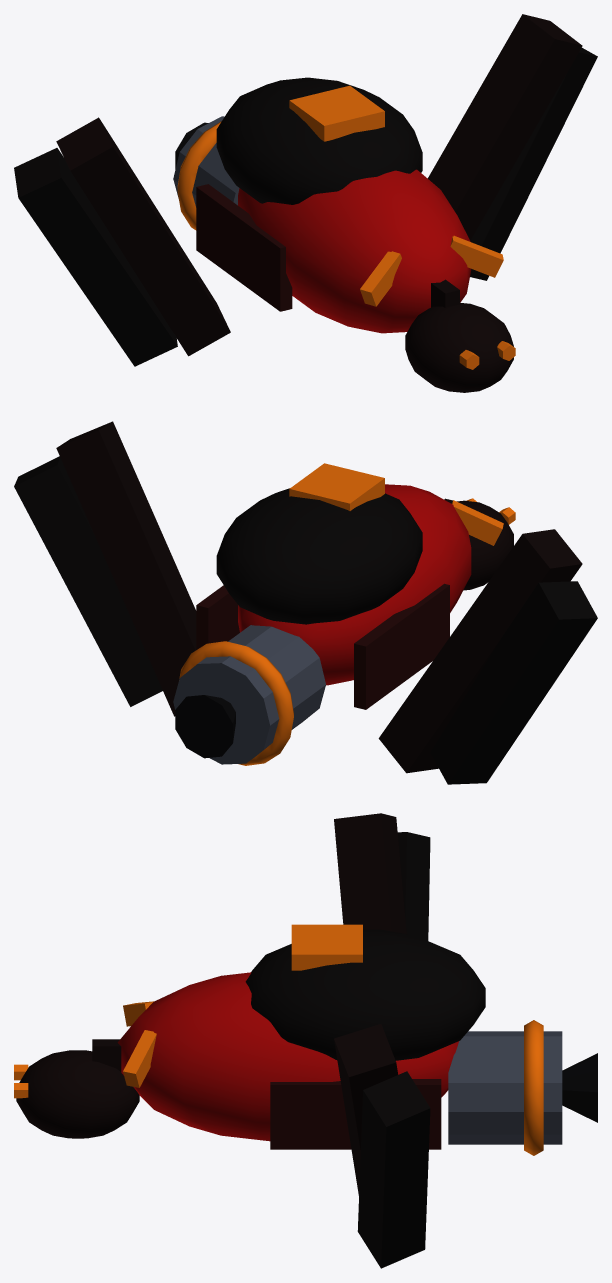
Rendered from Enemy_imp.fbx.
3 views of the same model, one above another, from view 1: azimuth 30°, elevation 25°; view 2: azimuth 150°, elevation 25°; view 3: azimuth 270°, elevation 25° (orthographic).
Visible parts, largest first — view 1: Enemy_imp; view 2: Enemy_imp; view 3: Enemy_imp.
Boxes of the visible parts, bbox=[...] form: Enemy_imp: bbox=[14, 14, 597, 392]; Enemy_imp: bbox=[14, 421, 597, 784]; Enemy_imp: bbox=[14, 813, 597, 1268].
Bounding box in the file's own units: 0.9567 × 0.4071 × 0.82.
